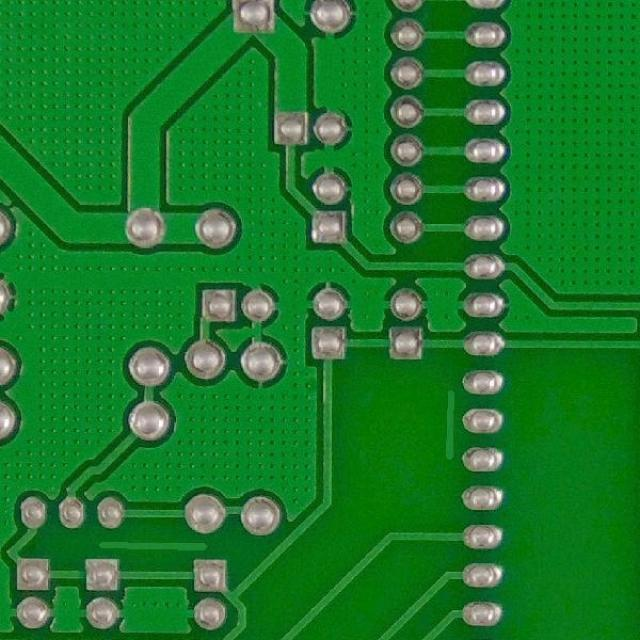Spurious_Cooper: (96, 538, 214, 554), (442, 386, 457, 466)
